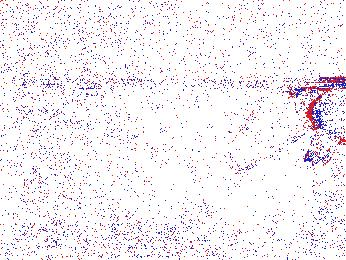flame jellyfish: (303, 86, 346, 165), (26, 213, 88, 260), (168, 200, 229, 247)
